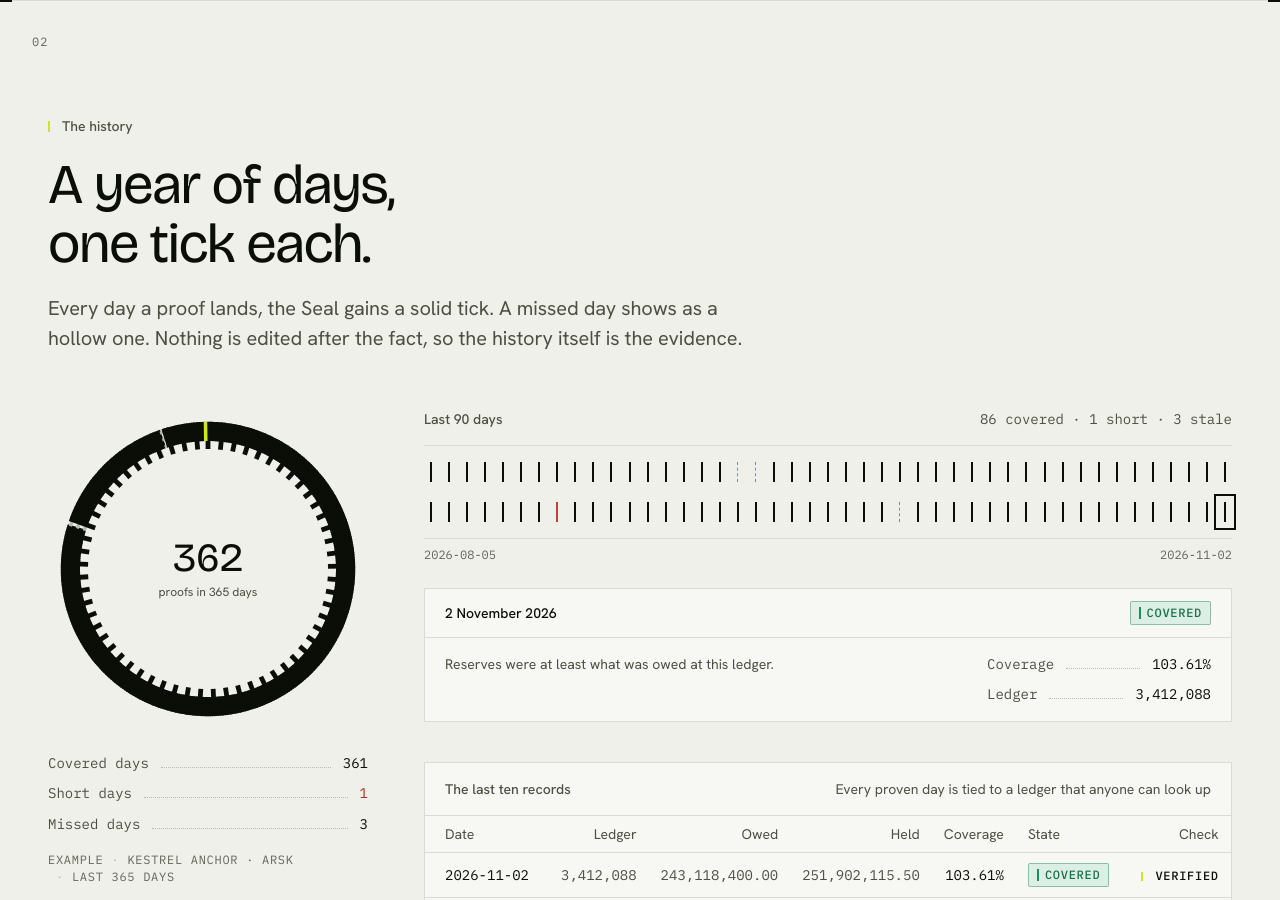
RecordHistory › treats a stale day as unknown and shows no ledger
The image size is (1280, 900).
Click the button named "15 October 2026, Stale" at (900, 512), box [893,498,907,526]
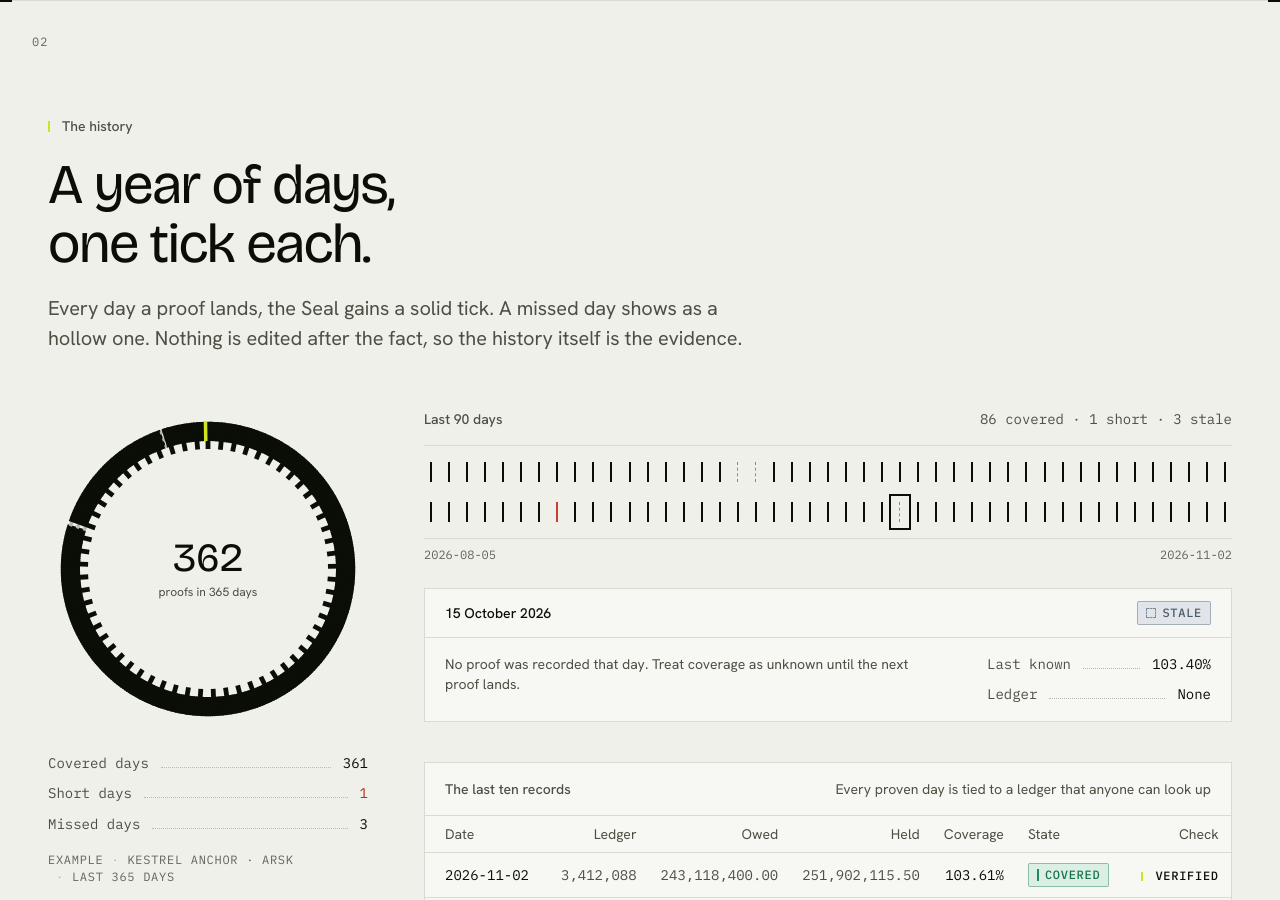
Expected: the text "Treat coverage as unknown" is shown, [445,655,908,693]
Expected: the text "Last known" is shown, [987,654,1071,674]
Expected: the text "None" is shown, [1177,684,1211,705]
